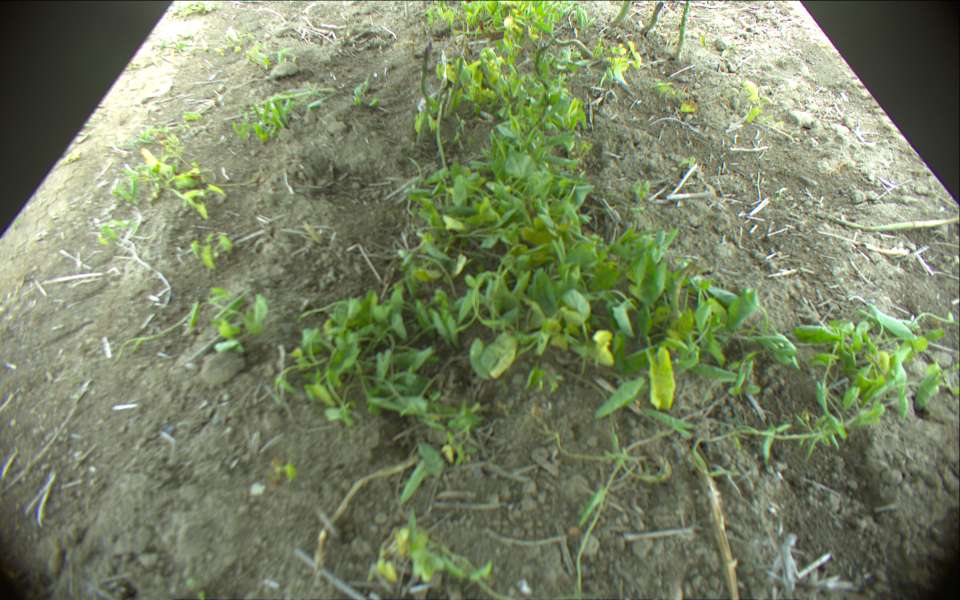aspa: (418, 41, 441, 116), (443, 56, 465, 121), (546, 30, 595, 57), (675, 1, 692, 60), (641, 1, 664, 35), (608, 1, 633, 28)
